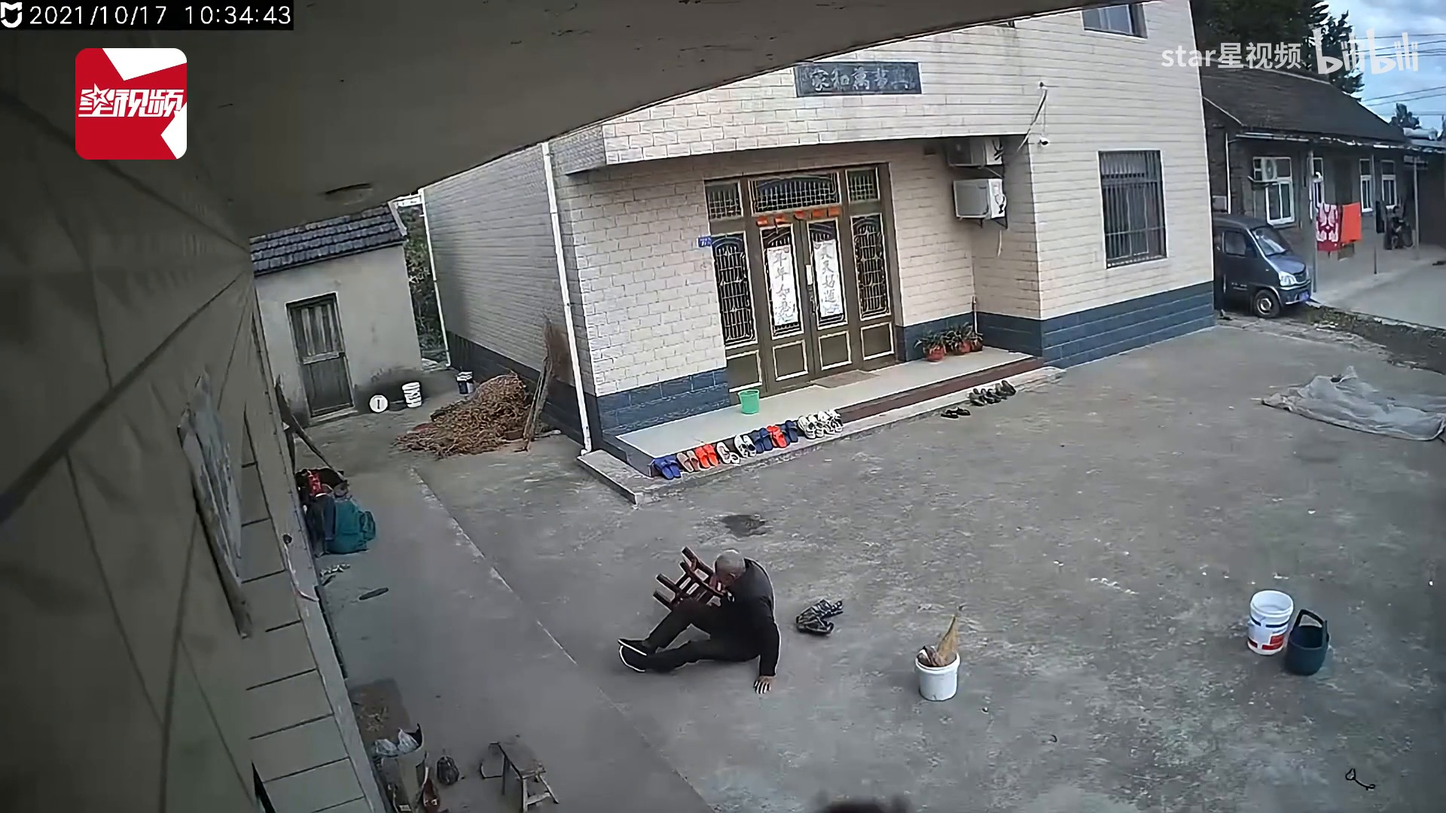half_up: (617, 547, 780, 694)
stand: (1211, 233, 1231, 322)
